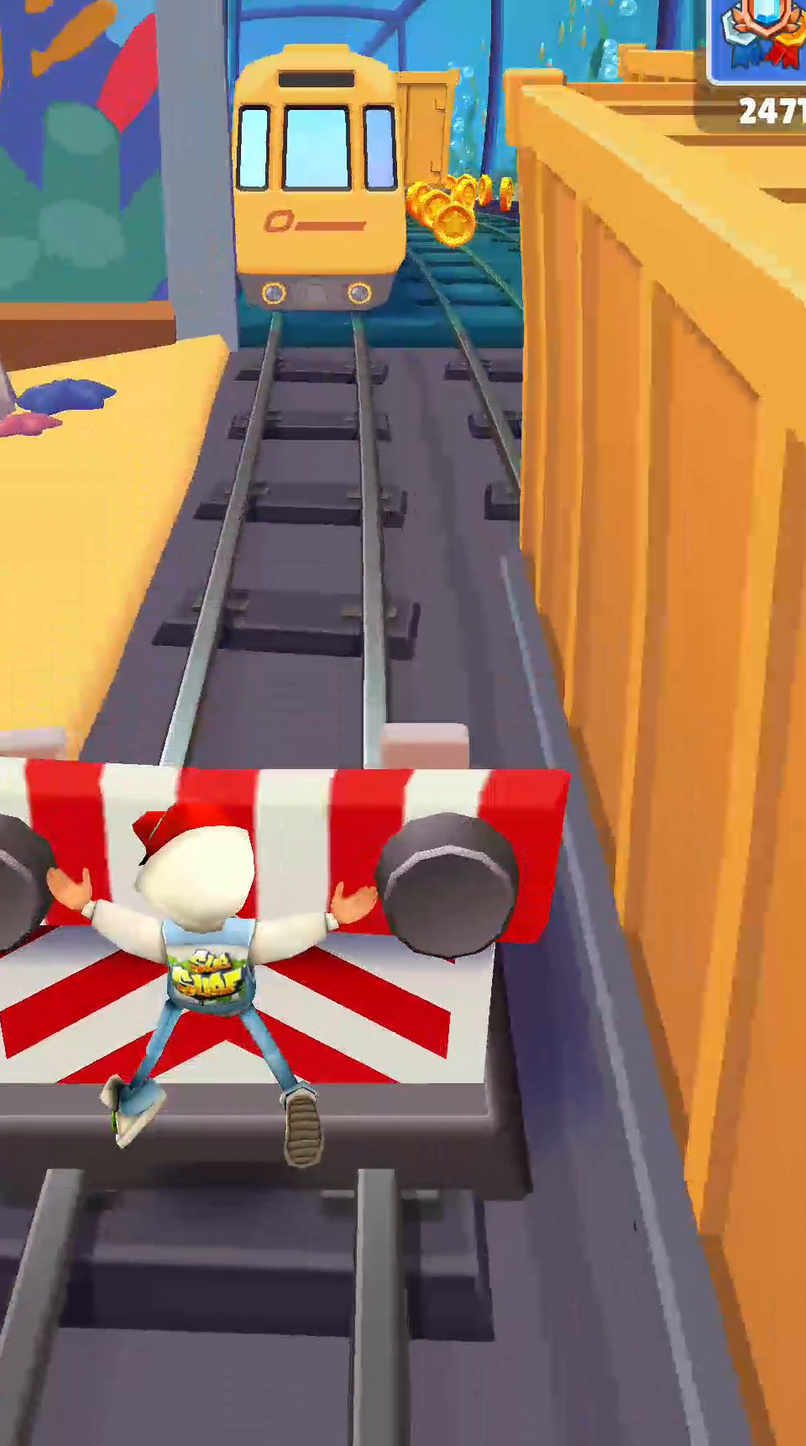roll blocker: (0, 761, 567, 1083)
train: (505, 71, 805, 1445), (231, 45, 406, 317), (398, 68, 459, 186)
